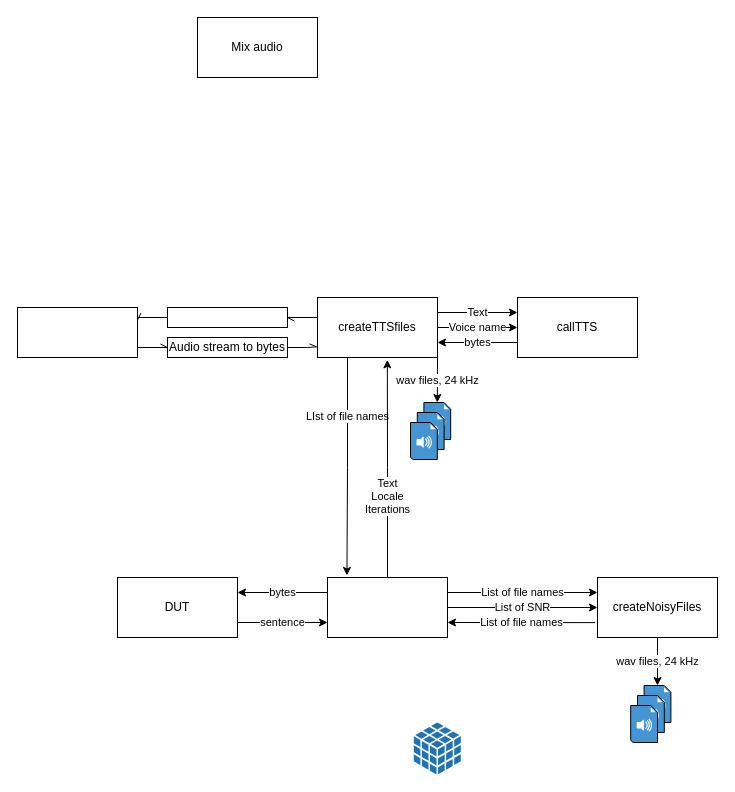
Image size: 735x792. Some labels were removed from this diagram. The shapes that lost their labels are listed below. From the top down, each one's centre as x and y in pixels, then its label:
At pixel 77 332: "resample".
At pixel 227 317: "Bytes to audio stream".
At pixel 387 607: "main".
